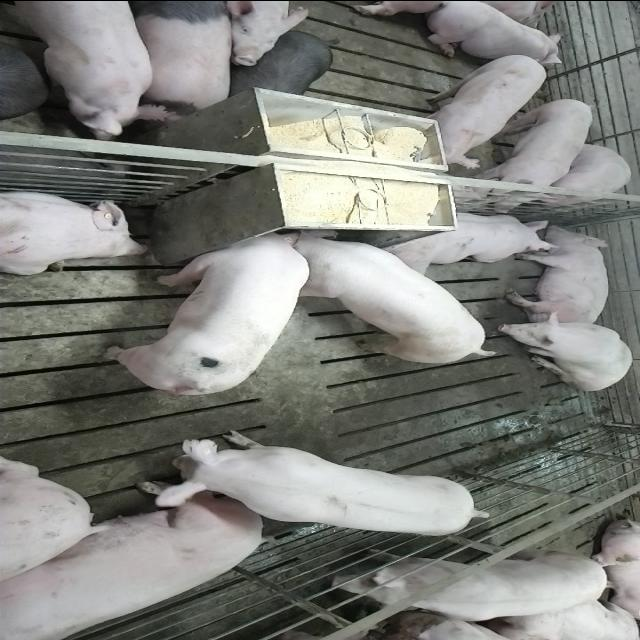Feeding: (100, 220, 310, 392), (280, 230, 500, 365)
Lateral_lying: (504, 222, 614, 326)
Sitting: (493, 310, 634, 390)
Standing: (142, 432, 492, 538), (323, 536, 618, 629), (0, 2, 168, 142), (405, 51, 549, 167), (477, 97, 595, 207), (129, 3, 238, 119), (227, 30, 337, 100), (0, 29, 49, 119)
Sternal_lying: (0, 187, 150, 275), (378, 208, 556, 270), (417, 1, 567, 62)
